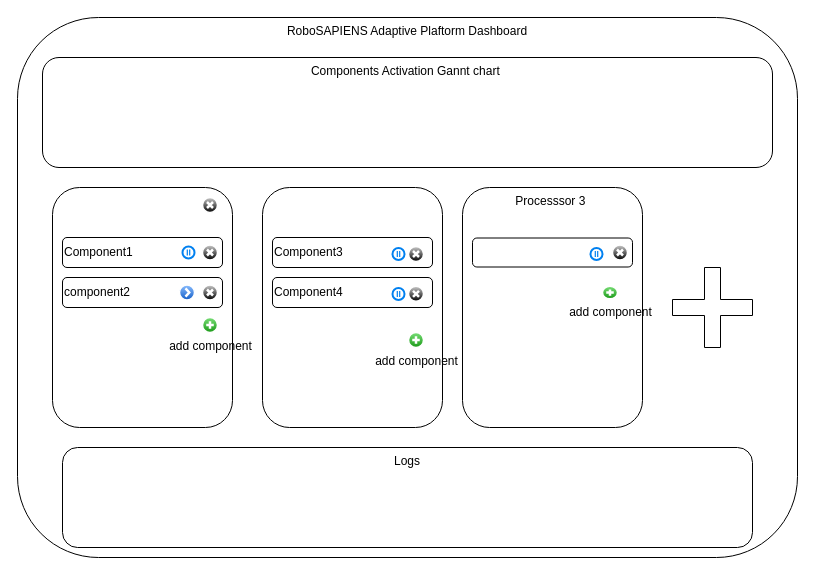
Image size: 815x575. Some labels were removed from this diagram. The shapes that lost their labels are listed below. From the top down, each one's box as (x1, y1, x2, y2) in pixels, then its label:
(472, 237, 632, 267): Component5
(52, 186, 232, 428): Proccessor 1
(262, 186, 442, 428): Proccessor 2
(672, 266, 752, 348): Add Proccessor
